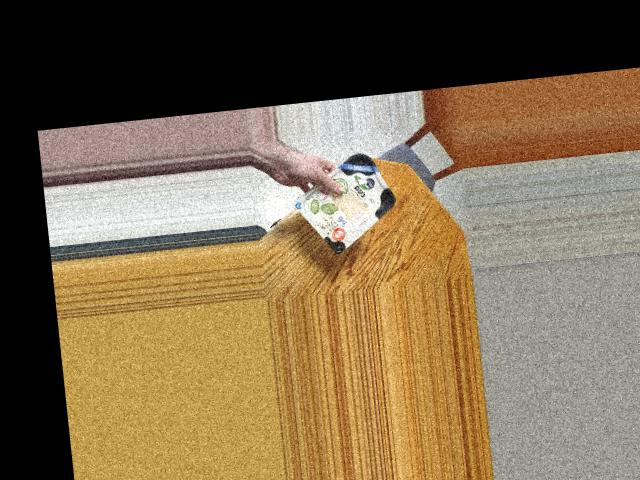cheese: (305, 144, 395, 250)
